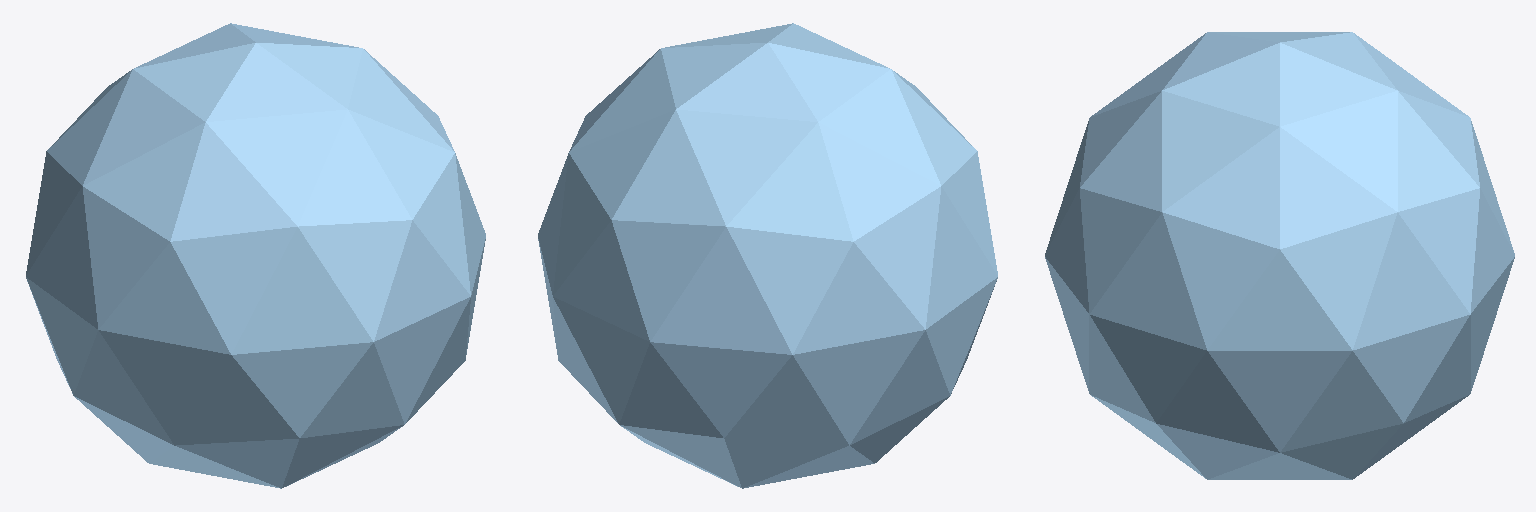
The model's file is ScoreBlock.obj.
3 renders of one model, left to right at view 1: azimuth 30°, elevation 25°; view 2: azimuth 150°, elevation 25°; view 3: azimuth 270°, elevation 25°, orthographic.
Visible parts, largest first — view 1: ICO球_ICO球.001; view 2: ICO球_ICO球.001; view 3: ICO球_ICO球.001.
Part boxes in pixels (left/top/right/bottom): ICO球_ICO球.001: left=26, top=23, right=485, bottom=488; ICO球_ICO球.001: left=538, top=23, right=997, bottom=488; ICO球_ICO球.001: left=1045, top=32, right=1514, bottom=479.
Size of the model in its own units: 1.9 by 2 by 2.